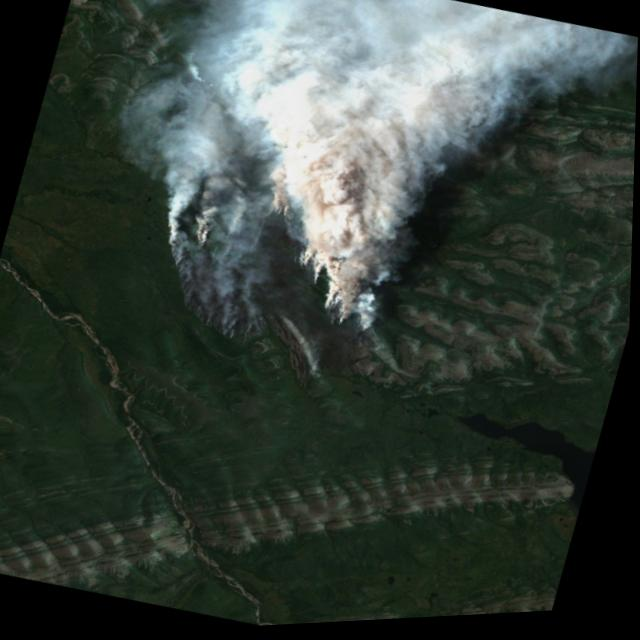fire: (134, 148, 425, 405)
